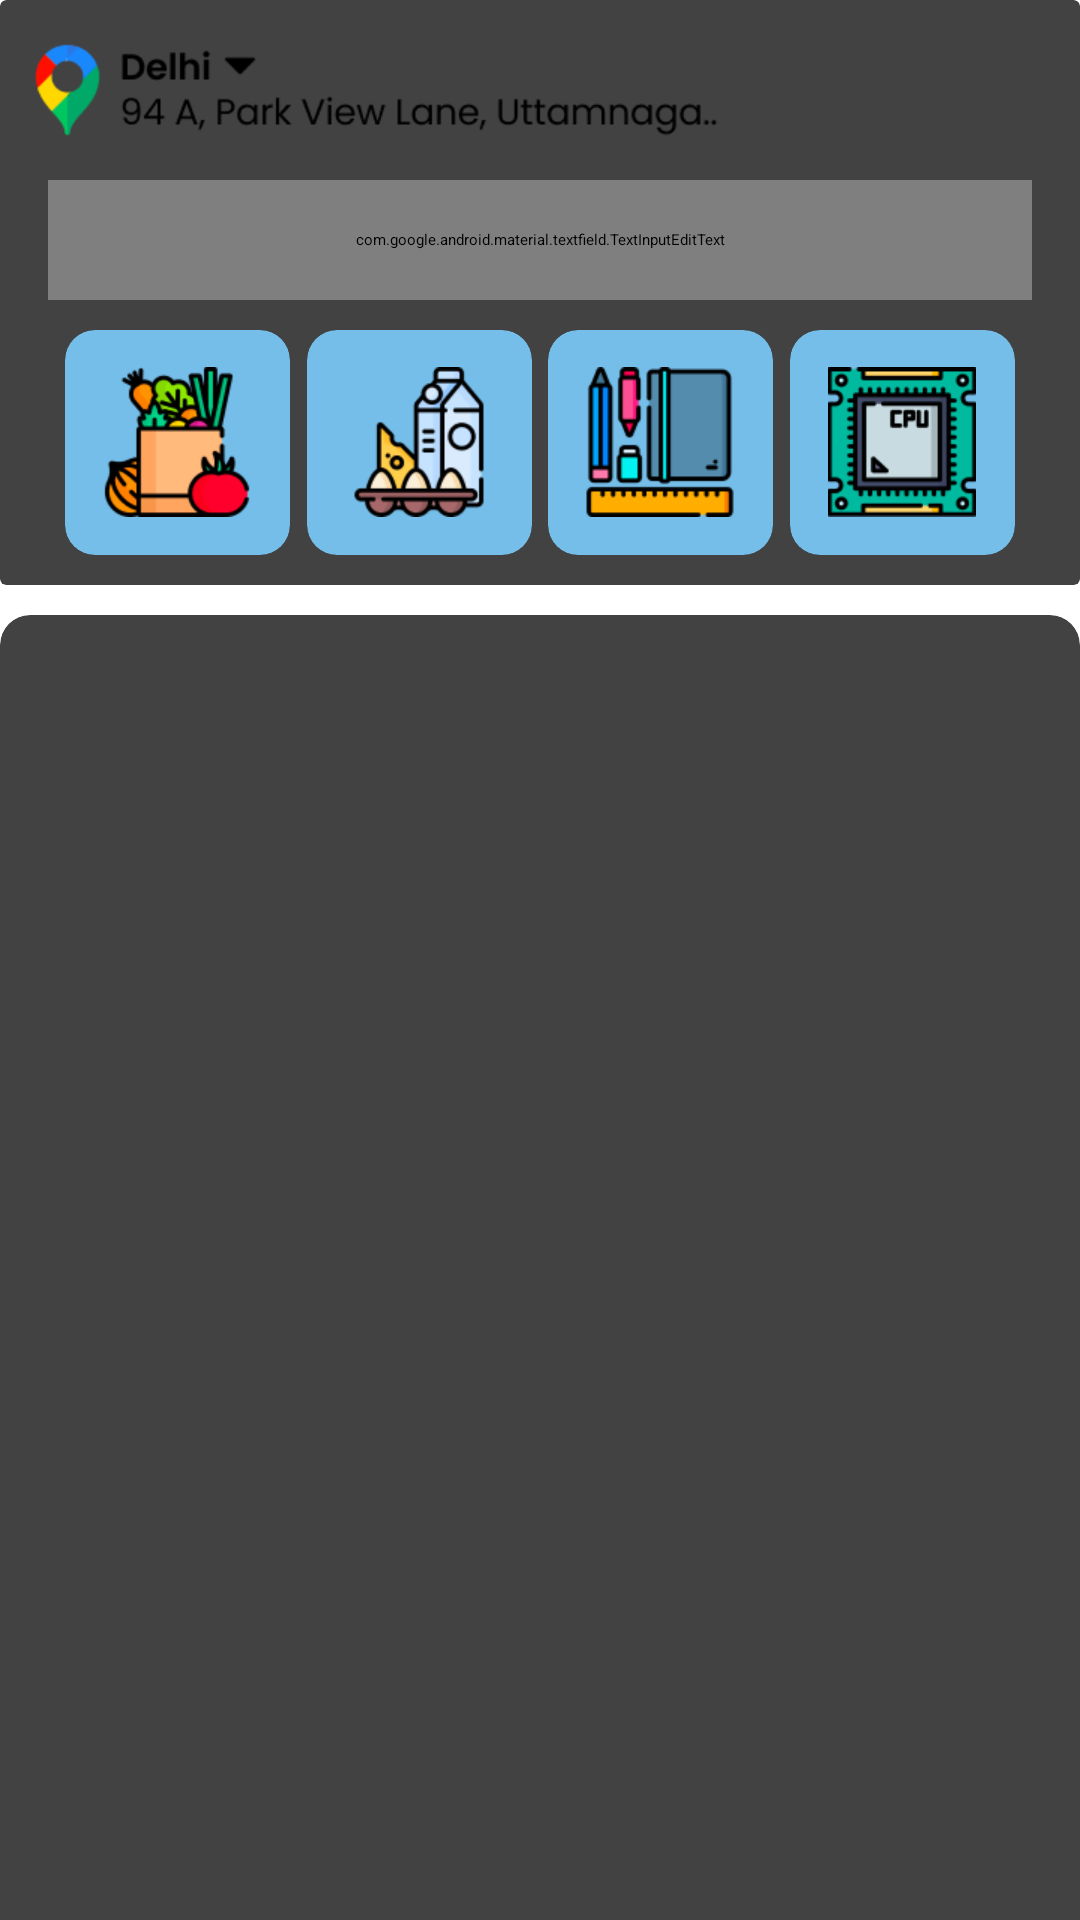

Where icons sit on this 1080 × 1920 app screen, as (x1, y1, x2, y2):
dairy: (354, 367, 484, 517)
groceries: (104, 367, 250, 517)
hardware: (828, 367, 976, 517)
stationery: (586, 367, 734, 517)
